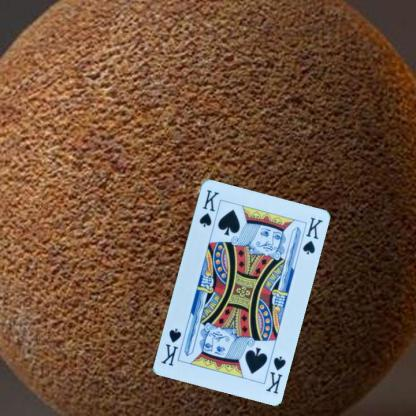Ks: (263, 353, 287, 395), (197, 187, 220, 228)
